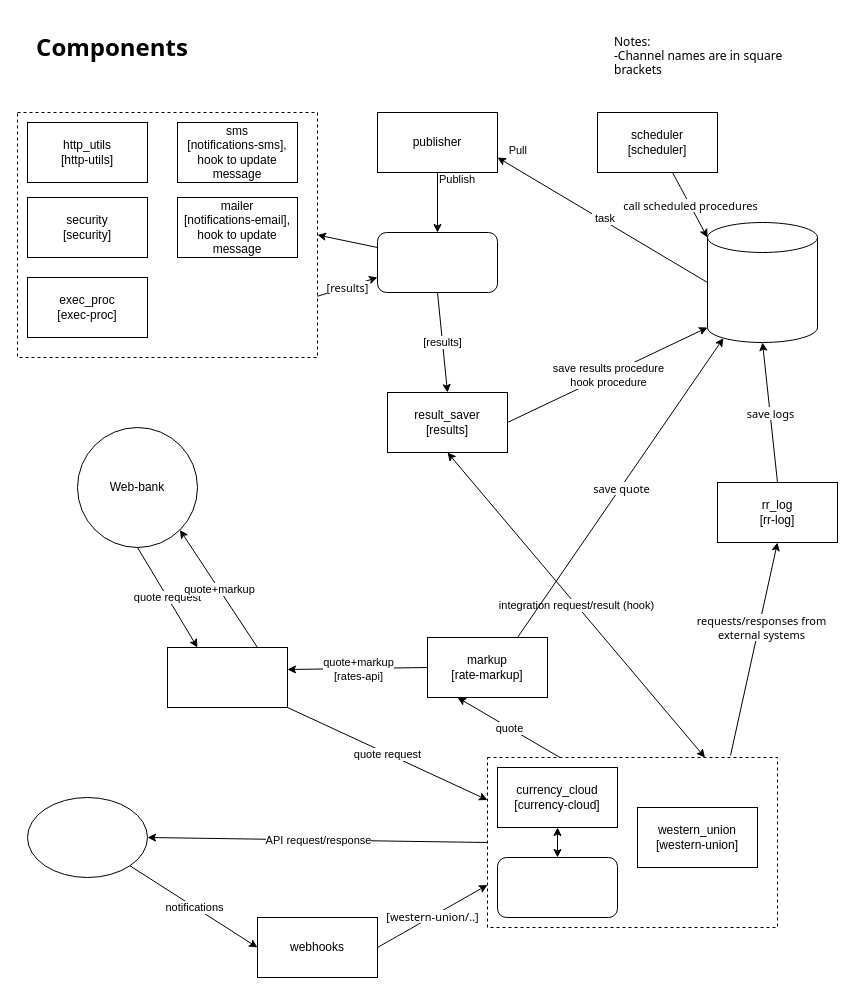
The diagram is 855 pixels wide and 995 high, and some of its shapes have lost their labels. Each missing label, with the box of its shape:
External System/Bank: (26, 796, 148, 878)
Macrobank DB: (706, 222, 818, 342)
RabbitMQ (Message bus): (376, 232, 498, 292)
rates_api [rate-api]: (166, 646, 288, 708)
redis (rates cache): (496, 856, 618, 918)
